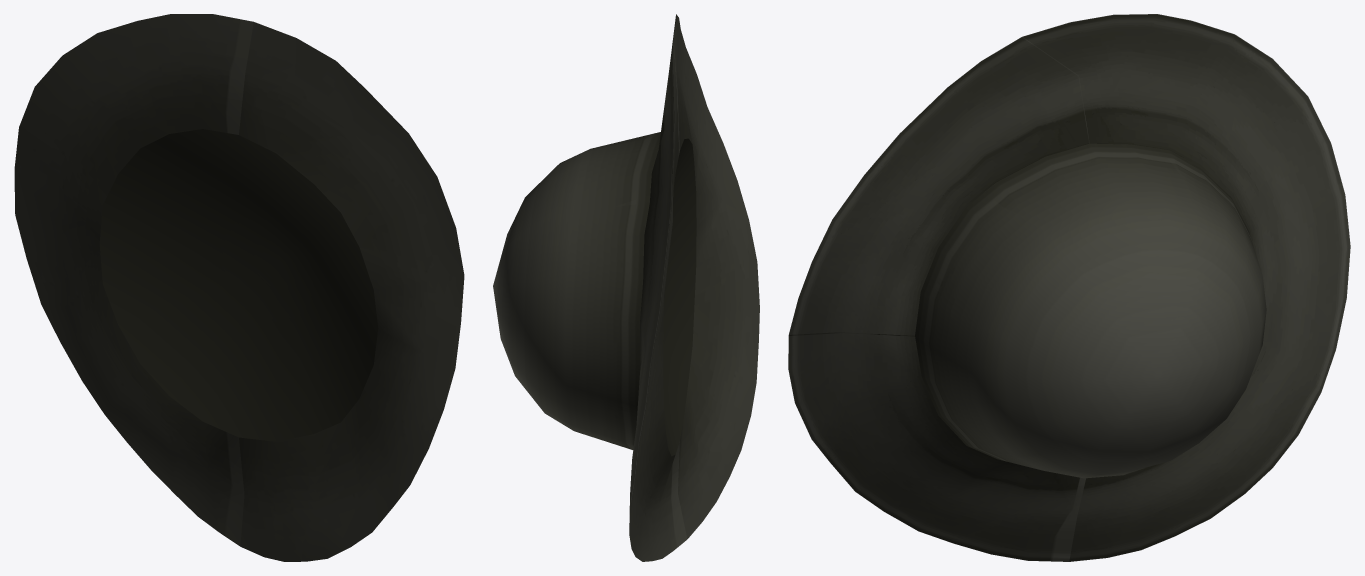
The model's file is cap_actress.fbx.
3 views of the same model, side by side, from view 1: azimuth 30°, elevation 25°; view 2: azimuth 150°, elevation 25°; view 3: azimuth 270°, elevation 25° (orthographic). The views are drawn at different scales.
Parts seen in each view (by area): view 1: cap_actress_mdl; view 2: cap_actress_mdl; view 3: cap_actress_mdl.
Part boxes in pixels (bbox=[...]): cap_actress_mdl: bbox=[14, 14, 464, 561]; cap_actress_mdl: bbox=[493, 14, 759, 561]; cap_actress_mdl: bbox=[788, 14, 1350, 561].
Bounding box in the file's own units: 0.0613 × 0.1138 × 0.1061.
1 material, 1 textured.
